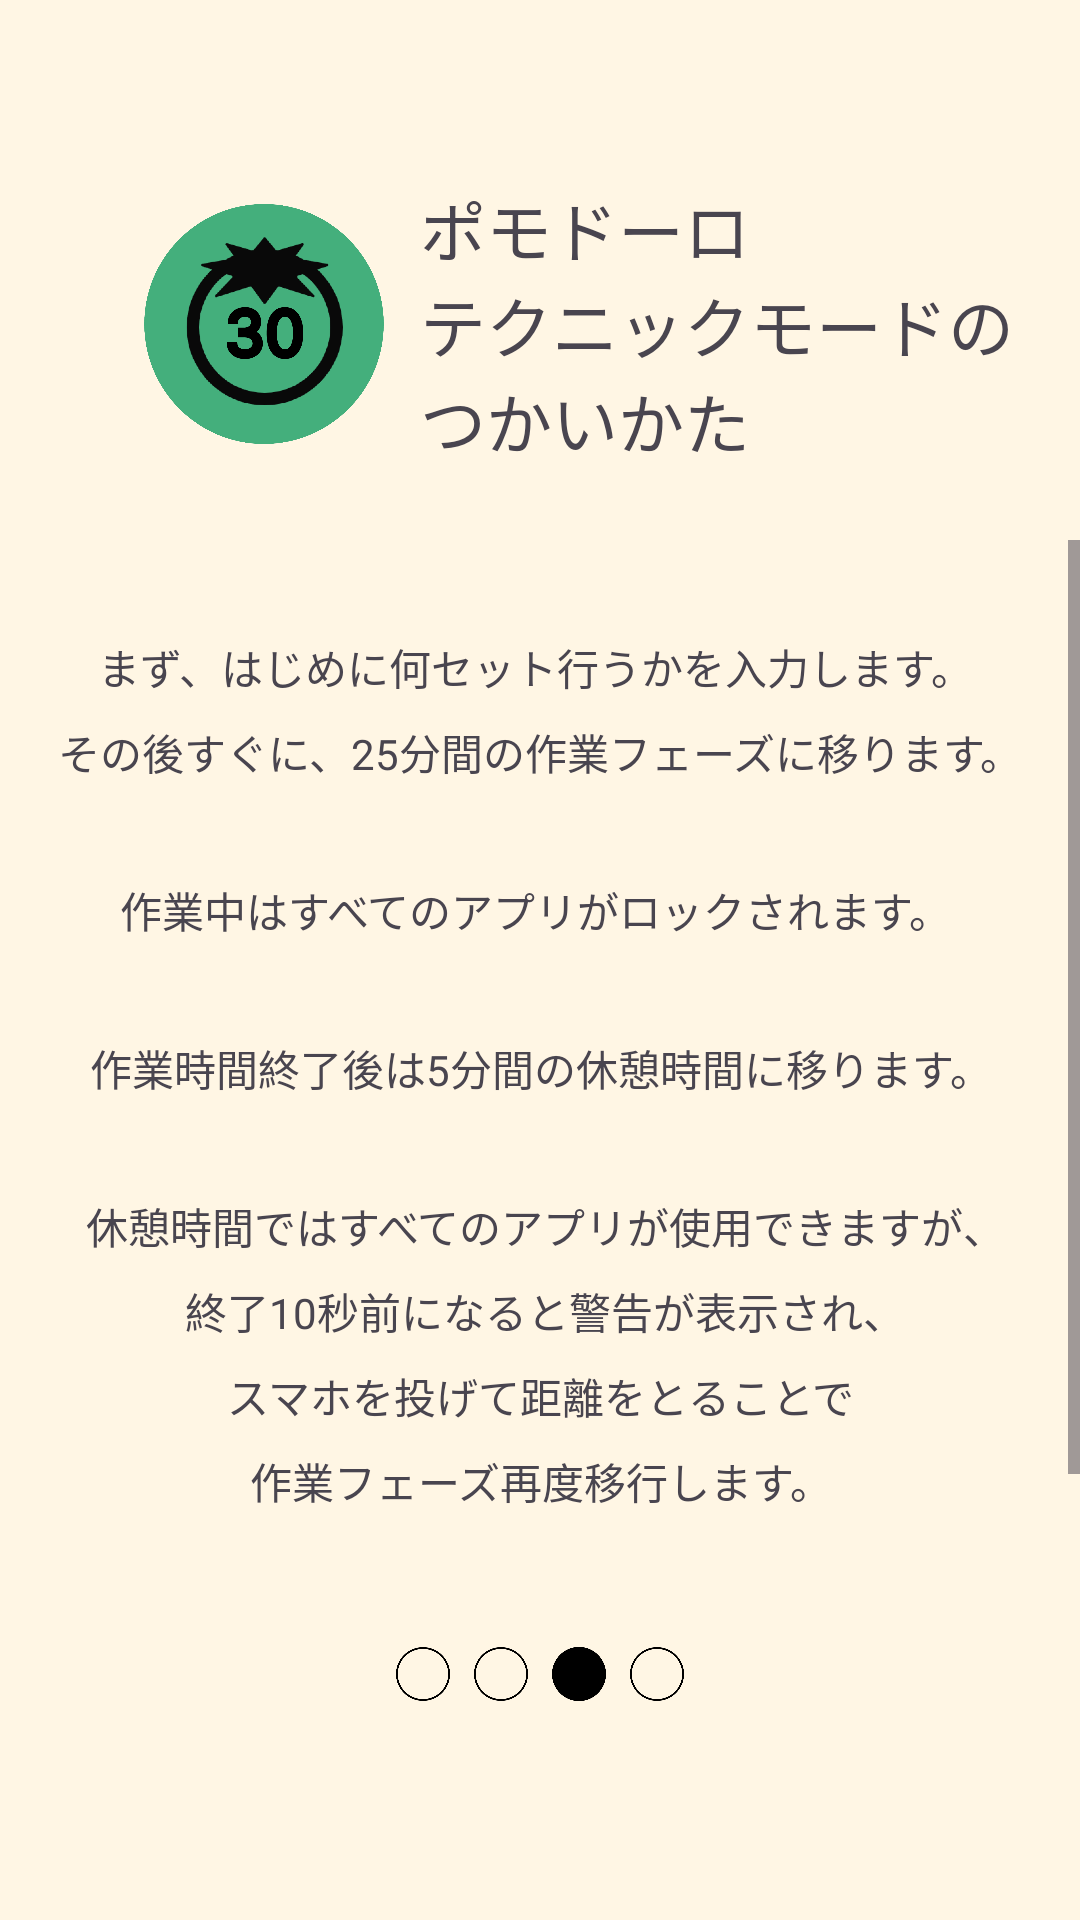

Where to tap for icons on this 1080×1920 app screen, as (x,y):
pomo tomato: (264,324)
